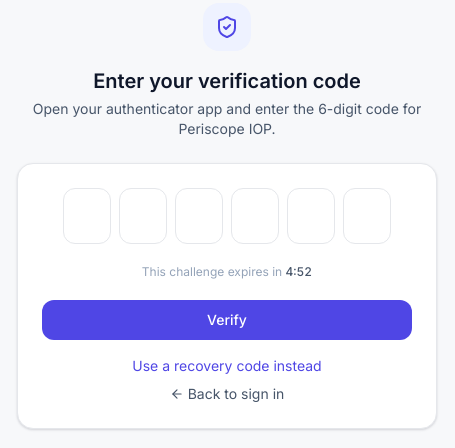
Test: TotpLoginPage › toggles to recovery code input
The image size is (455, 448).
Click the button "Use a recovery code instead". click: (227, 366)
box: [42,356,412,376]
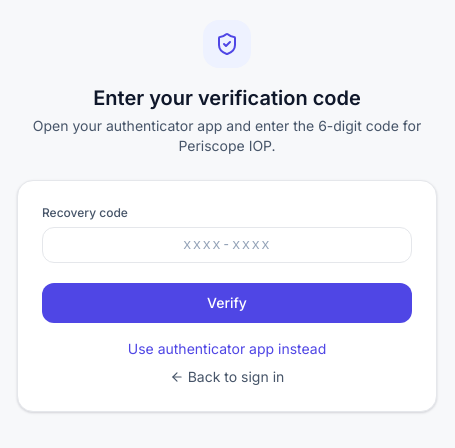
expect the field with placeholder "xxxx-xxxx" is shown: met, box [42,227,412,263]
